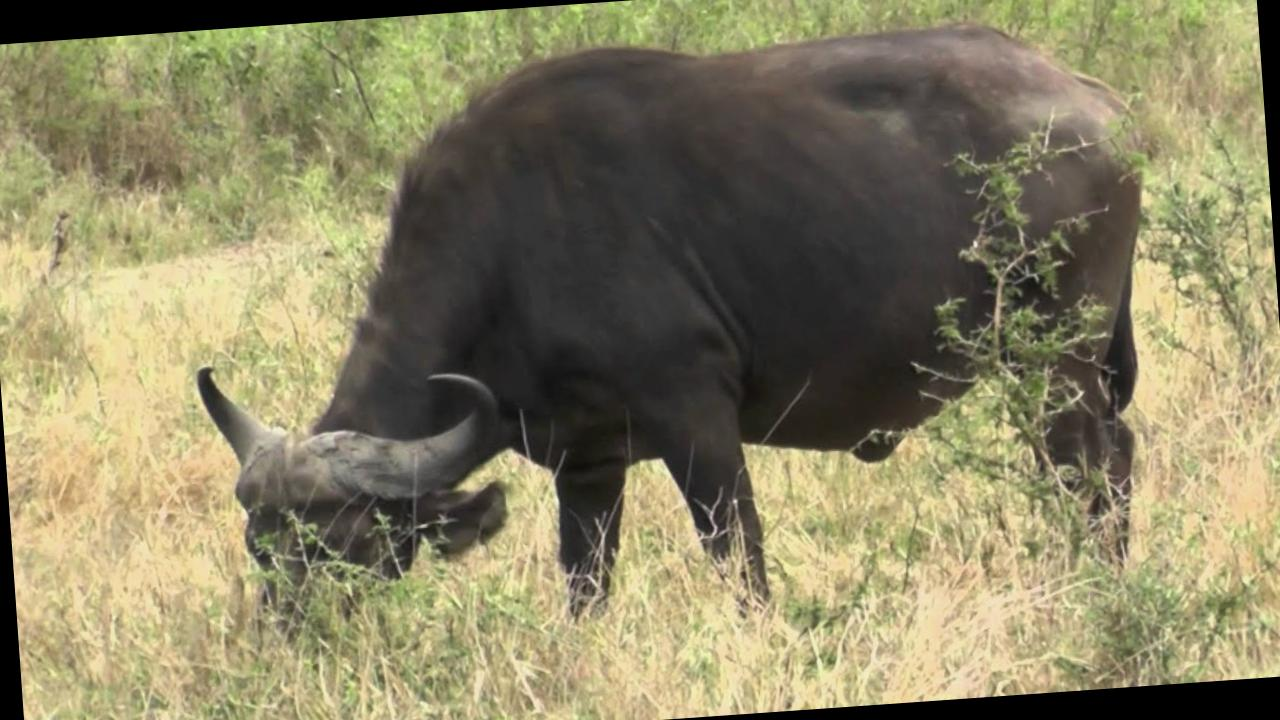Buffalo: (50, 41, 1100, 656)
